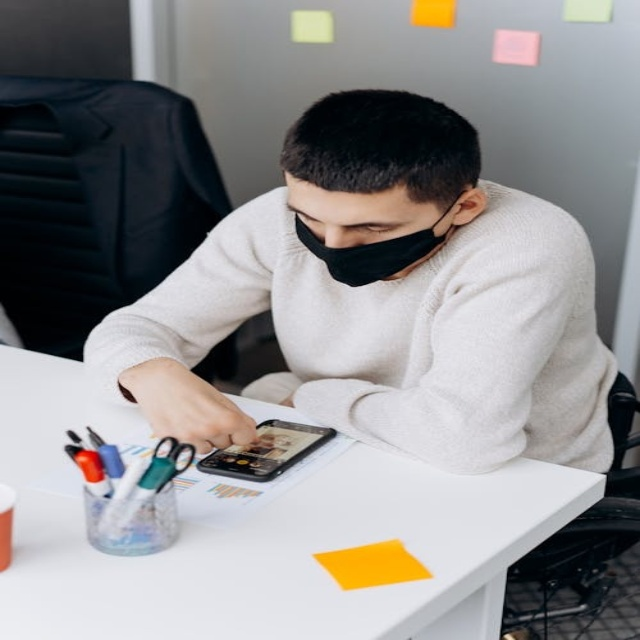Mascara: (294, 196, 460, 286)
Sin_gafas: (282, 195, 421, 237)
Sin_guantes: (123, 367, 263, 456)
